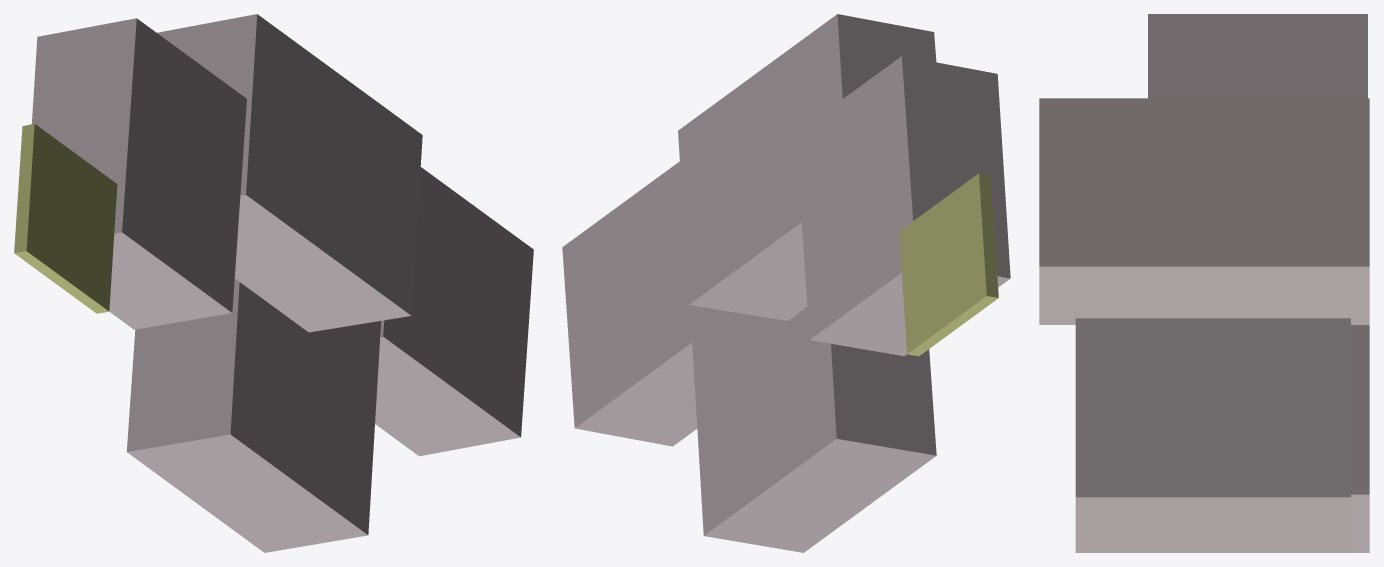
The picture shows the model from 3 angles, left to right: view 1: azimuth 30°, elevation 25°; view 2: azimuth 150°, elevation 25°; view 3: azimuth 270°, elevation 25°; orthographic projection. The views are drawn at different scales.
Visible parts, largest first — view 1: 0_2_1_3_0_3_0_1_2_2; view 2: 0_2_1_3_0_3_0_1_2_2; view 3: 0_2_1_3_0_3_0_1_2_2.
Boxes of the visible parts, x1,y1,x2,y2 form: 0_2_1_3_0_3_0_1_2_2: (14,14,533,552); 0_2_1_3_0_3_0_1_2_2: (562,14,1010,552); 0_2_1_3_0_3_0_1_2_2: (1039,14,1369,552).
Bounding box in the file's own units: 23.62 × 26.74 × 18.
